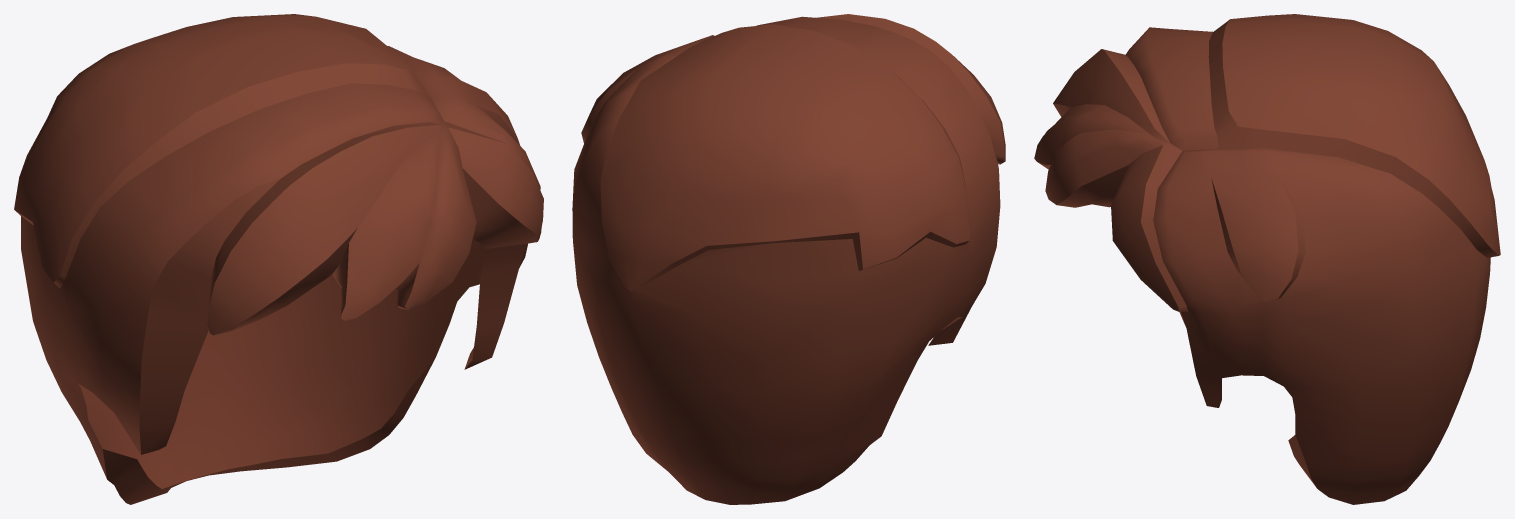
The model's file is Racer_Head_04_Hair.fbx.
3 views of the same model, side by side, from view 1: azimuth 30°, elevation 25°; view 2: azimuth 150°, elevation 25°; view 3: azimuth 270°, elevation 25° (orthographic). The views are drawn at different scales.
Visible parts, largest first — view 1: Racer_Head_04_Hair; view 2: Racer_Head_04_Hair; view 3: Racer_Head_04_Hair.
Part boxes in pixels (x1,y1,x2,y2): Racer_Head_04_Hair: (14,14,543,504); Racer_Head_04_Hair: (572,14,1005,504); Racer_Head_04_Hair: (1034,14,1500,504).
Size of the model in its own units: 31.89 by 31.92 by 32.45.
